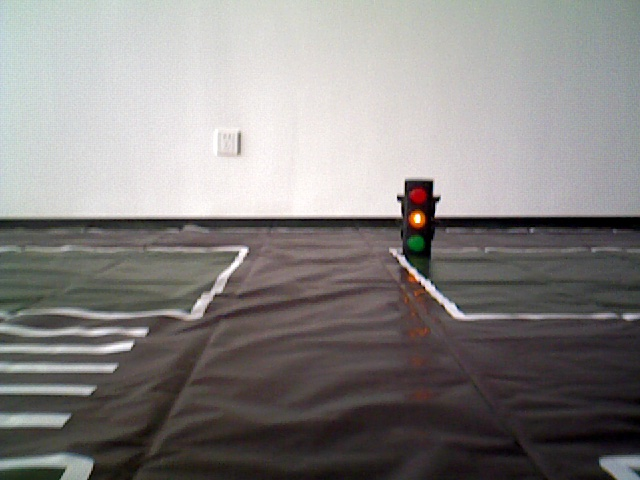yellow: (399, 175, 434, 254)
